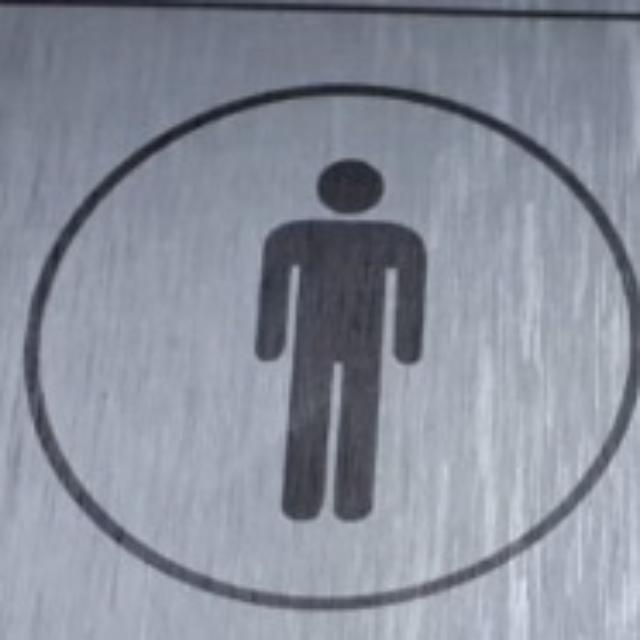wc nam: (28, 89, 637, 606)
